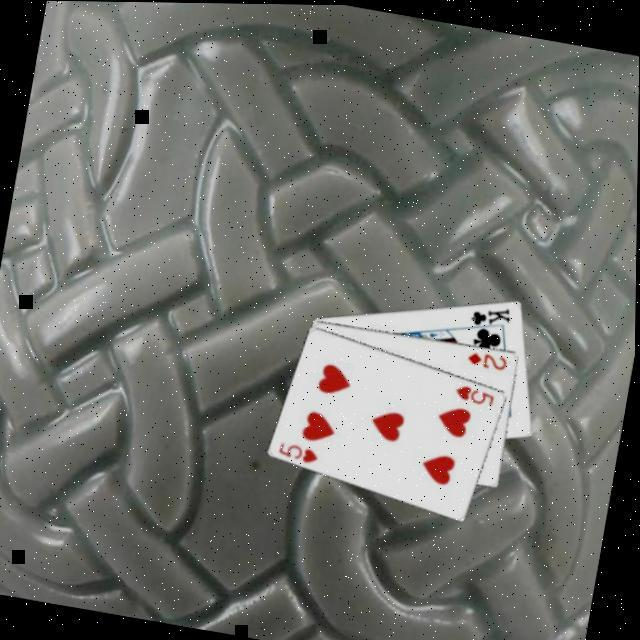2D: (464, 343, 511, 371)
5H: (276, 436, 324, 466), (452, 378, 499, 407)
KC: (466, 296, 514, 336)
